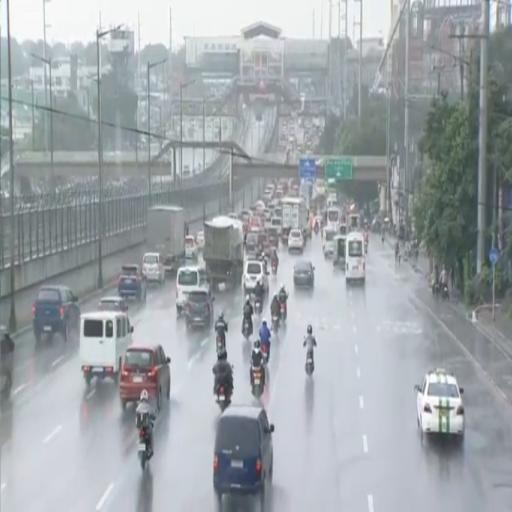bus: (345, 230, 366, 284), (325, 207, 341, 232)
car: (213, 406, 274, 509), (80, 312, 133, 386), (415, 368, 464, 440), (120, 345, 170, 409), (33, 286, 80, 342), (185, 290, 214, 328), (118, 264, 146, 300), (243, 260, 268, 295), (143, 252, 165, 284), (293, 260, 315, 288), (252, 229, 270, 257), (98, 297, 128, 312), (288, 230, 303, 252), (245, 232, 258, 257), (185, 236, 197, 260), (267, 228, 279, 248), (196, 231, 204, 250), (227, 213, 239, 219)
motorcycle: (0, 354, 13, 401), (138, 427, 152, 470), (216, 384, 230, 411), (252, 367, 264, 398), (305, 352, 314, 376), (216, 331, 225, 353), (243, 318, 251, 340), (261, 343, 269, 363), (280, 302, 287, 321), (432, 282, 440, 298), (272, 315, 279, 333), (441, 284, 449, 299), (255, 297, 262, 314), (272, 261, 277, 275), (314, 222, 319, 234), (365, 242, 368, 253)
truck: (203, 216, 244, 290), (146, 205, 185, 271), (282, 197, 307, 245)
